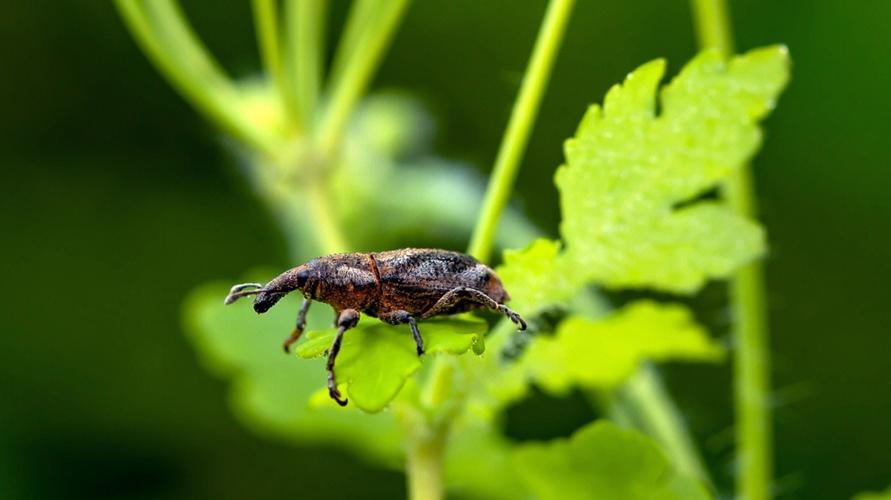Curculionidae: (225, 246, 527, 406)
